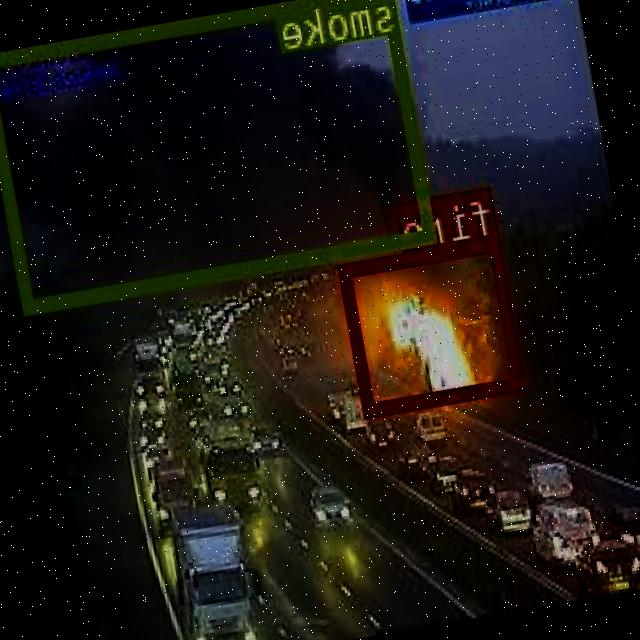fire: (338, 234, 528, 416)
smoke: (0, 0, 438, 310)
